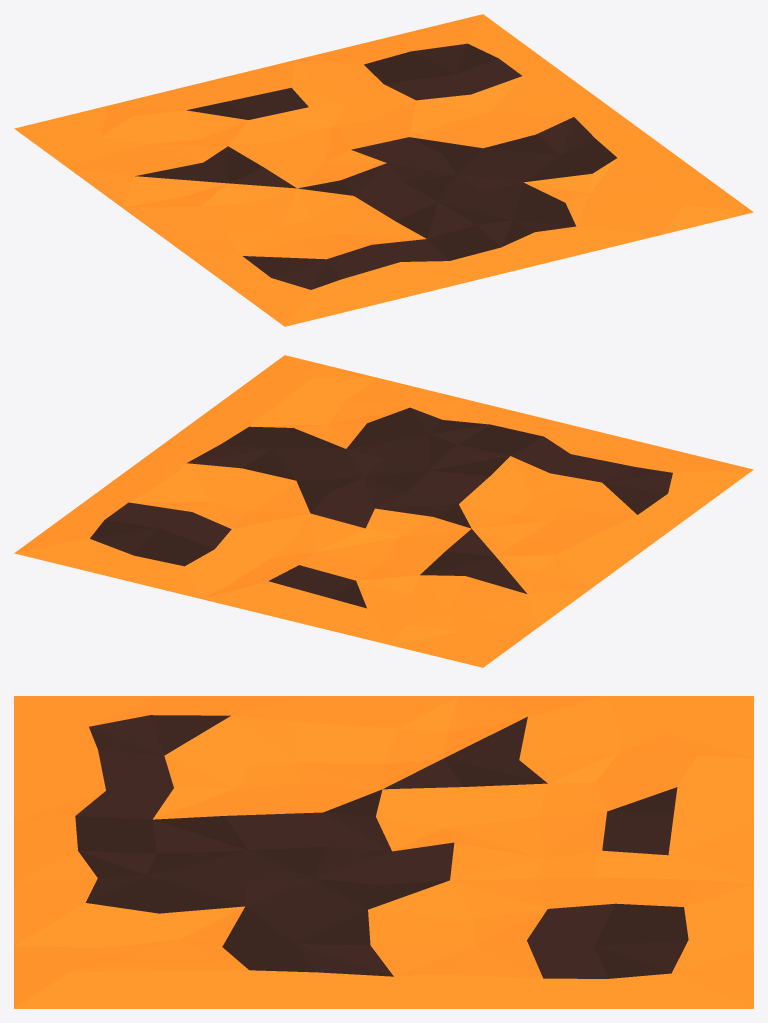
Rendered from ground_lava_a.glb.
3 renders of one model, top to bottom at view 1: azimuth 30°, elevation 25°; view 2: azimuth 150°, elevation 25°; view 3: azimuth 270°, elevation 25°, orthographic. The views are drawn at different scales.
Visible parts, largest first — view 1: ground_lava_a; view 2: ground_lava_a; view 3: ground_lava_a.
Boxes of the visible parts, box(x1,y1,x2,y2) form: ground_lava_a: box(14, 14, 753, 326); ground_lava_a: box(14, 355, 753, 667); ground_lava_a: box(14, 696, 753, 1008).
Size of the model in its own units: 4 by 0.03 by 4.
